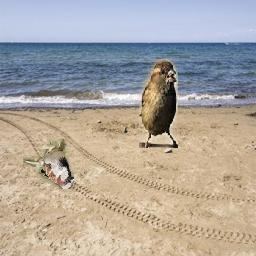Sparrow: (140, 60, 179, 149), (24, 139, 75, 189)
